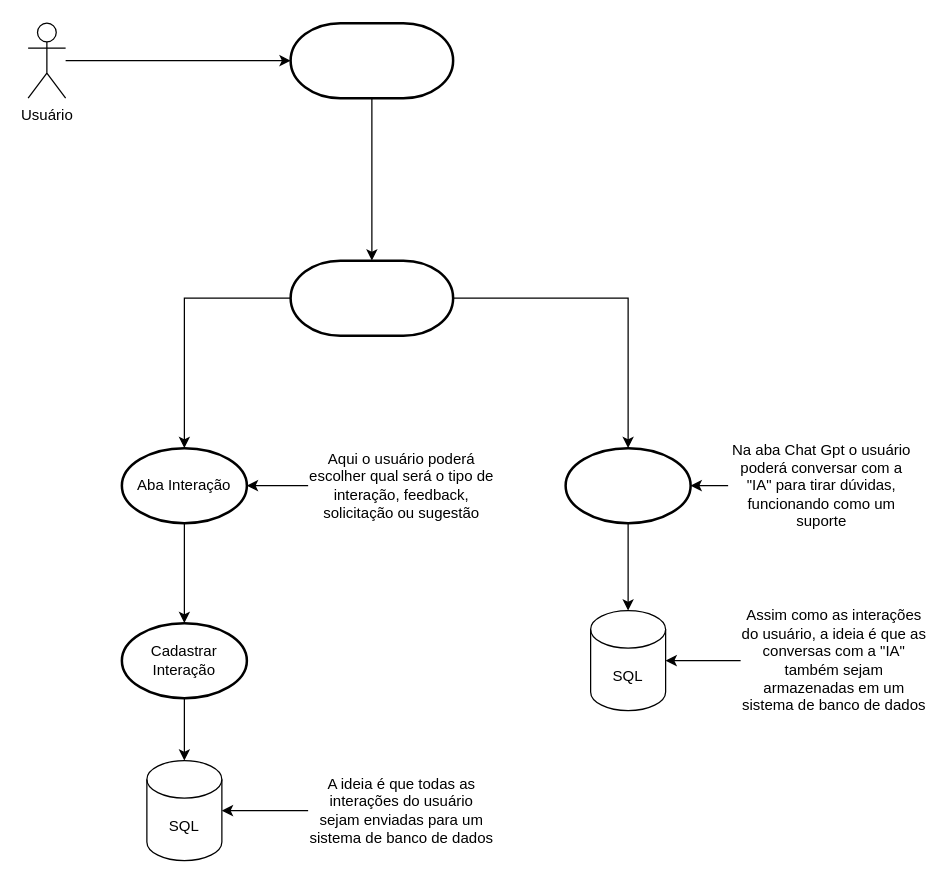
The diagram is 950 pixels wide and 888 high, and some of its shapes have lost their labels. The centre of each missing label's shape, as x and y in pixels:
"Cadastro no Sistema" belongs at pixel 371 60.
"Chat Gpt" belongs at pixel 627 485.
"Login no Sistema" belongs at pixel 371 297.
